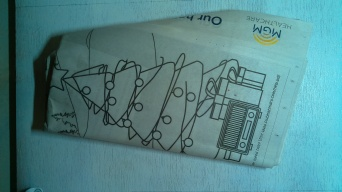p: (31, 1, 304, 175)
